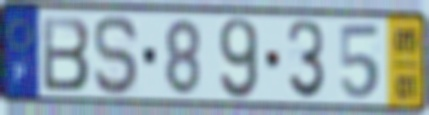3: (284, 18, 327, 102)
5: (338, 22, 382, 102)
8: (162, 17, 203, 97)
9: (216, 15, 260, 102)
B: (40, 14, 93, 93)
S: (92, 13, 143, 98)
